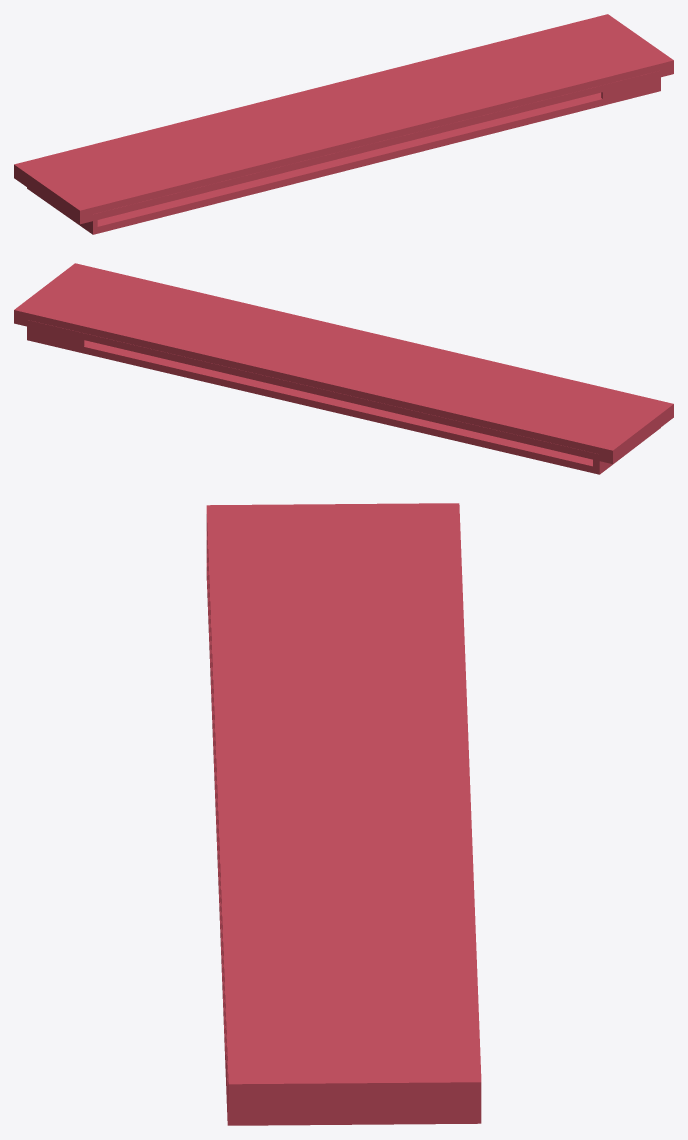
Rendered from Compartment Design #2 - Victor Siooh.glb.
The picture shows the model from 3 angles, top to bottom: view 1: azimuth 30°, elevation 25°; view 2: azimuth 150°, elevation 25°; view 3: azimuth 270°, elevation 25°; orthographic projection. The views are drawn at different scales.
Parts seen in each view (by area): view 1: Mesh_Mesh_head_geo.001_lambert2SG.001; view 2: Mesh_Mesh_head_geo.001_lambert2SG.001; view 3: Mesh_Mesh_head_geo.001_lambert2SG.001.
Boxes of the visible parts, <box> form: Mesh_Mesh_head_geo.001_lambert2SG.001: <box>14,14,673,234</box>; Mesh_Mesh_head_geo.001_lambert2SG.001: <box>14,263,673,474</box>; Mesh_Mesh_head_geo.001_lambert2SG.001: <box>206,503,481,1125</box>.
Bounding box in the file's own units: 230 × 10 × 46.
